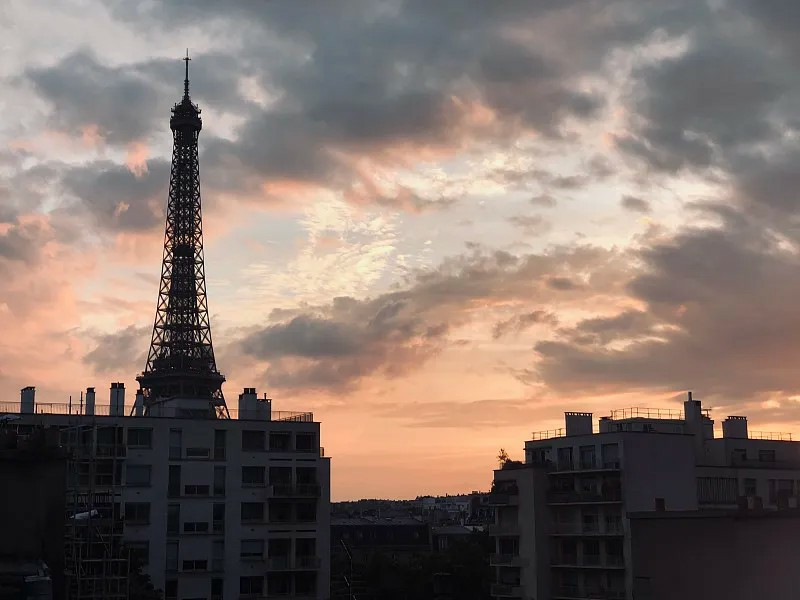Eiffel: (130, 48, 230, 420)
